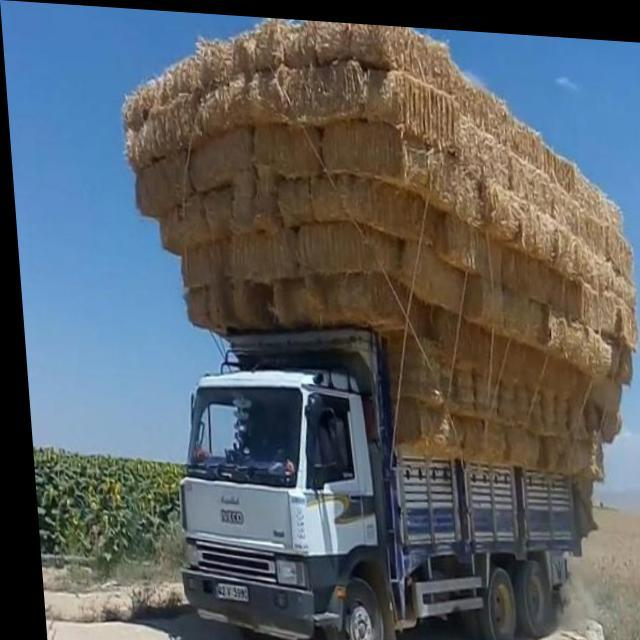uncovered: (124, 33, 640, 640)
